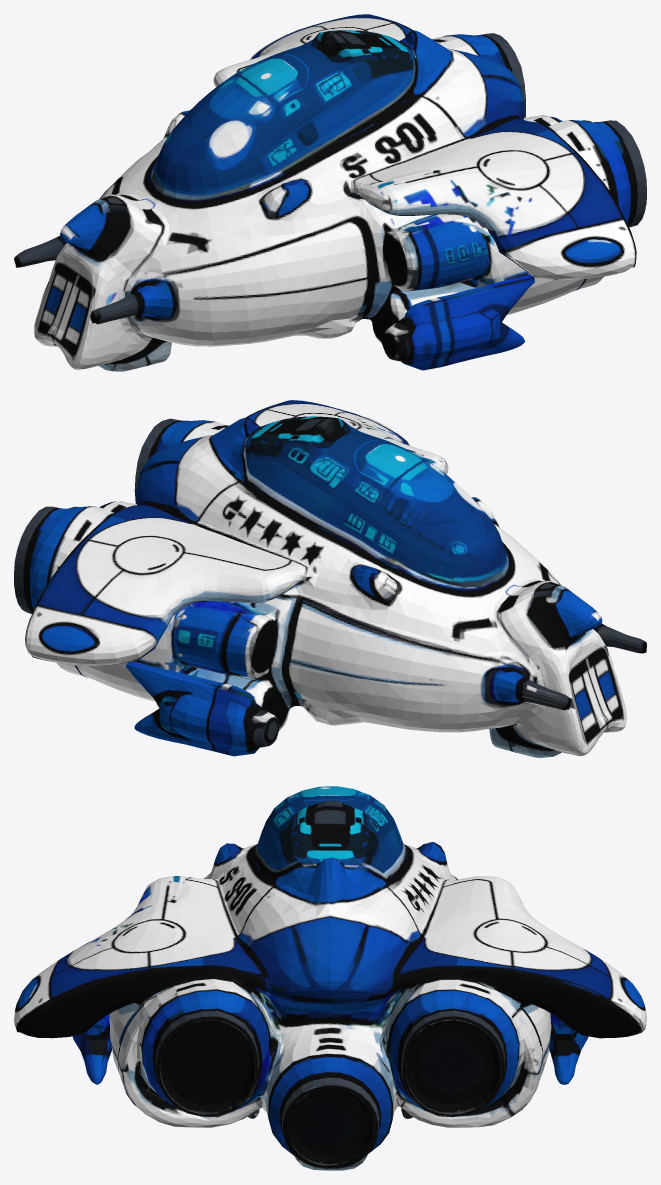
File: Meshy_AI_S_01_Starfighter_0630101256_texture.glb
3 renders of one model, top to bottom at view 1: azimuth 30°, elevation 25°; view 2: azimuth 150°, elevation 25°; view 3: azimuth 270°, elevation 25°, orthographic.
Bounding box in the file's own units: 1.91 × 0.931 × 1.9.
1 material, 1 textured.
